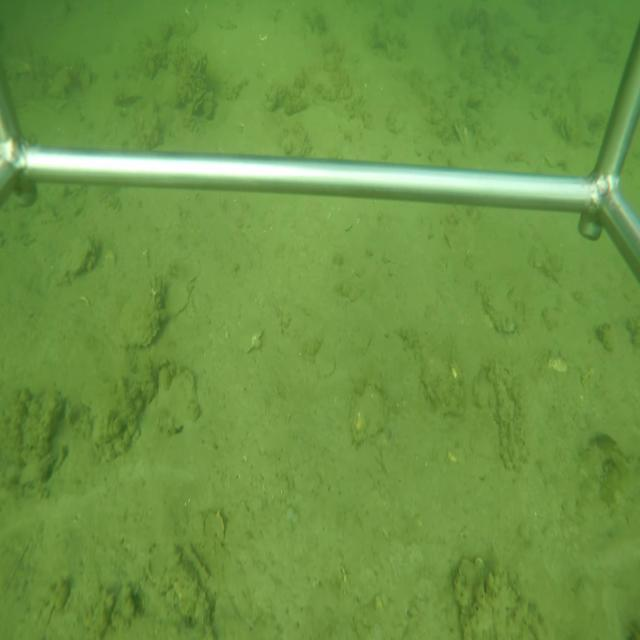Oyster-Closed: (119, 274, 165, 353), (60, 237, 95, 280)
